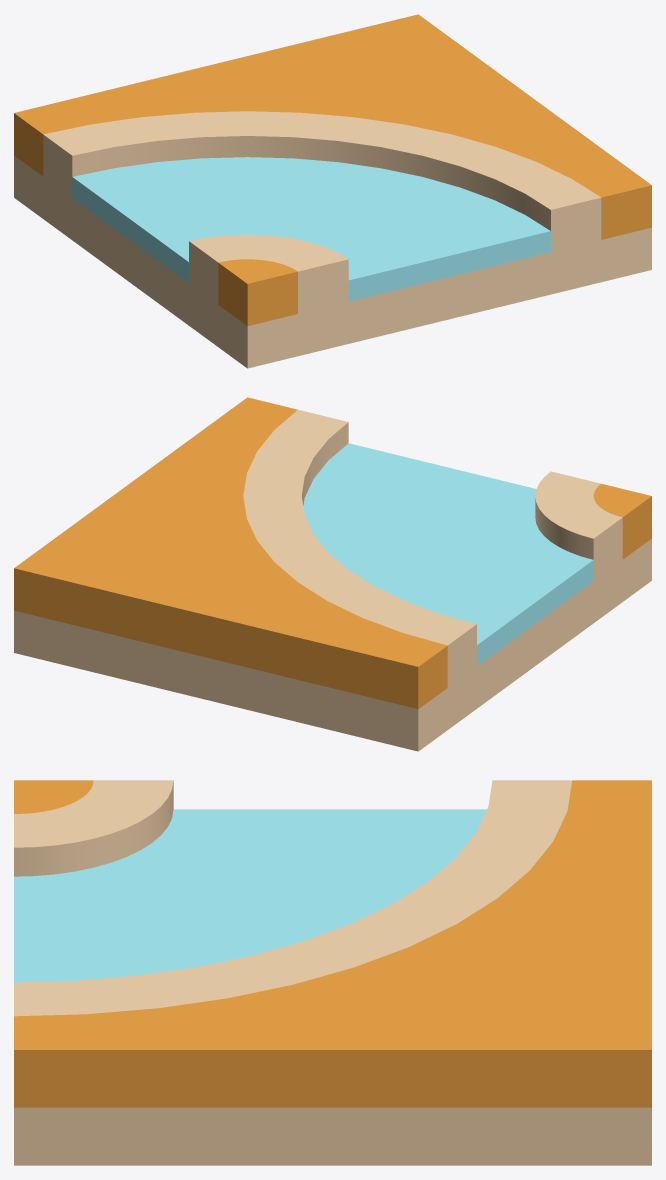
File: autumn_river_corner.fbx
3 renders of one model, top to bottom at view 1: azimuth 30°, elevation 25°; view 2: azimuth 150°, elevation 25°; view 3: azimuth 270°, elevation 25°, orthographic. The views are drawn at different scales.
Visible parts, largest first — view 1: tile_riverCorner; view 2: tile_riverCorner; view 3: tile_riverCorner.
Boxes of the visible parts, box(x1,y1,x2,y2) form: tile_riverCorner: box(14, 14, 651, 368); tile_riverCorner: box(14, 397, 651, 751); tile_riverCorner: box(14, 780, 651, 1165).
Size of the model in its own units: 100 by 20 by 100.
